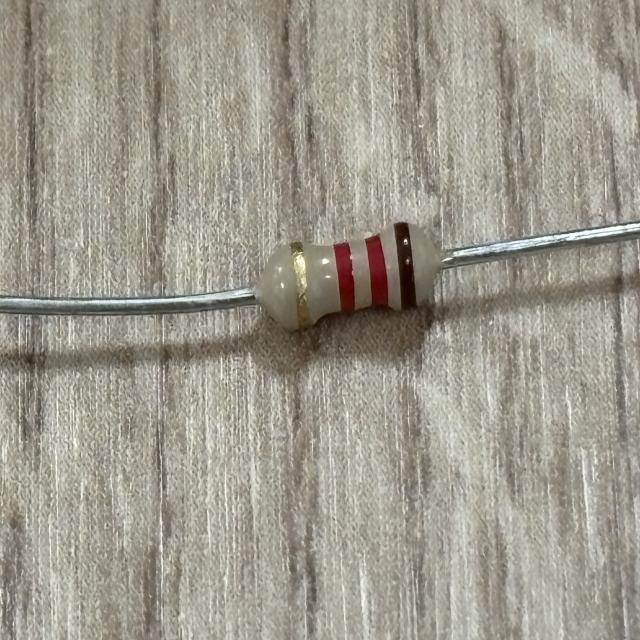resistor: (270, 219, 435, 336)
